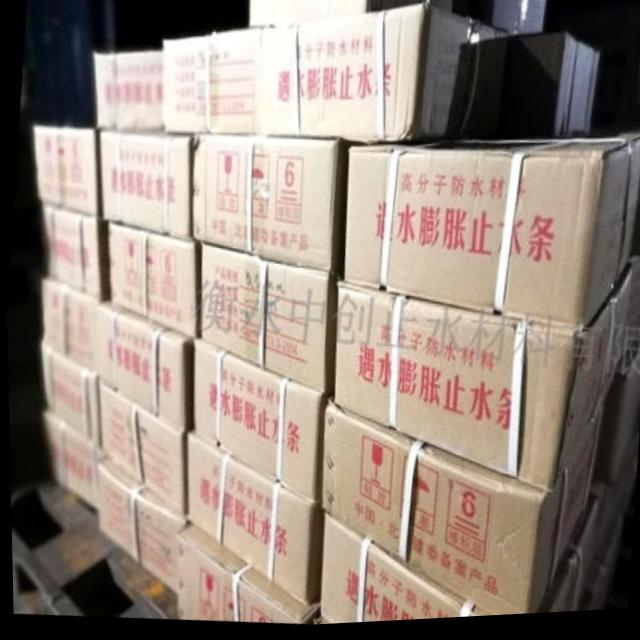box: (332, 269, 630, 498), (319, 402, 598, 620), (344, 136, 640, 334), (253, 6, 509, 148), (184, 433, 322, 606), (191, 340, 323, 504), (191, 137, 346, 276), (200, 246, 336, 395), (317, 517, 497, 627), (173, 526, 317, 627), (95, 303, 194, 431), (97, 384, 187, 517), (95, 460, 180, 595), (107, 224, 199, 339), (98, 131, 191, 238), (162, 31, 258, 134), (505, 38, 577, 141), (534, 500, 596, 619), (591, 348, 639, 489), (41, 204, 109, 302), (42, 411, 105, 511), (32, 125, 101, 215), (249, 0, 452, 29), (40, 342, 97, 444), (92, 50, 162, 132), (39, 278, 93, 371), (577, 523, 614, 617), (568, 49, 600, 139), (493, 0, 546, 38), (623, 263, 640, 358)
